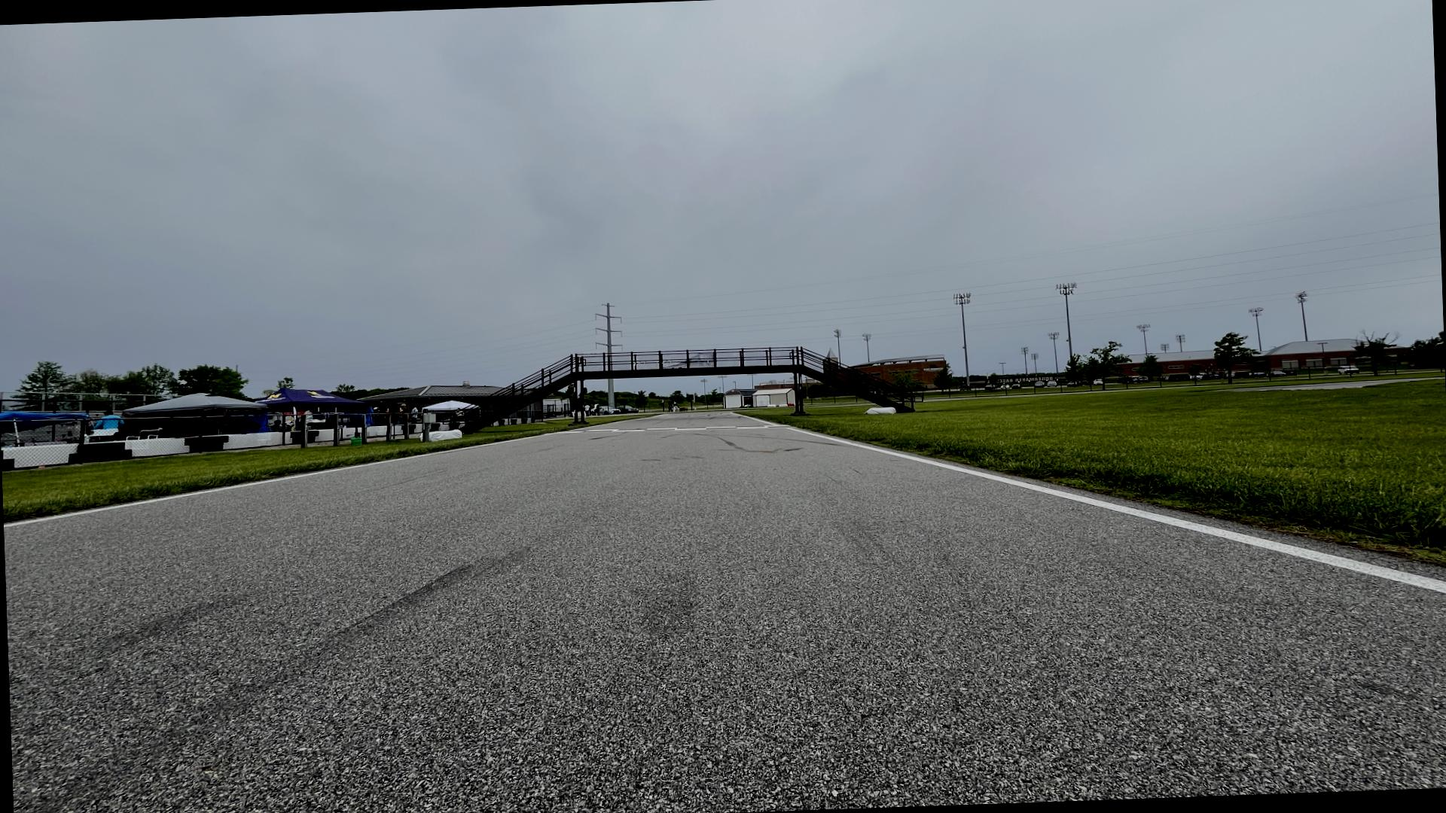white-line: (786, 428, 1445, 595), (4, 434, 553, 528), (569, 415, 661, 431), (730, 413, 776, 425)
